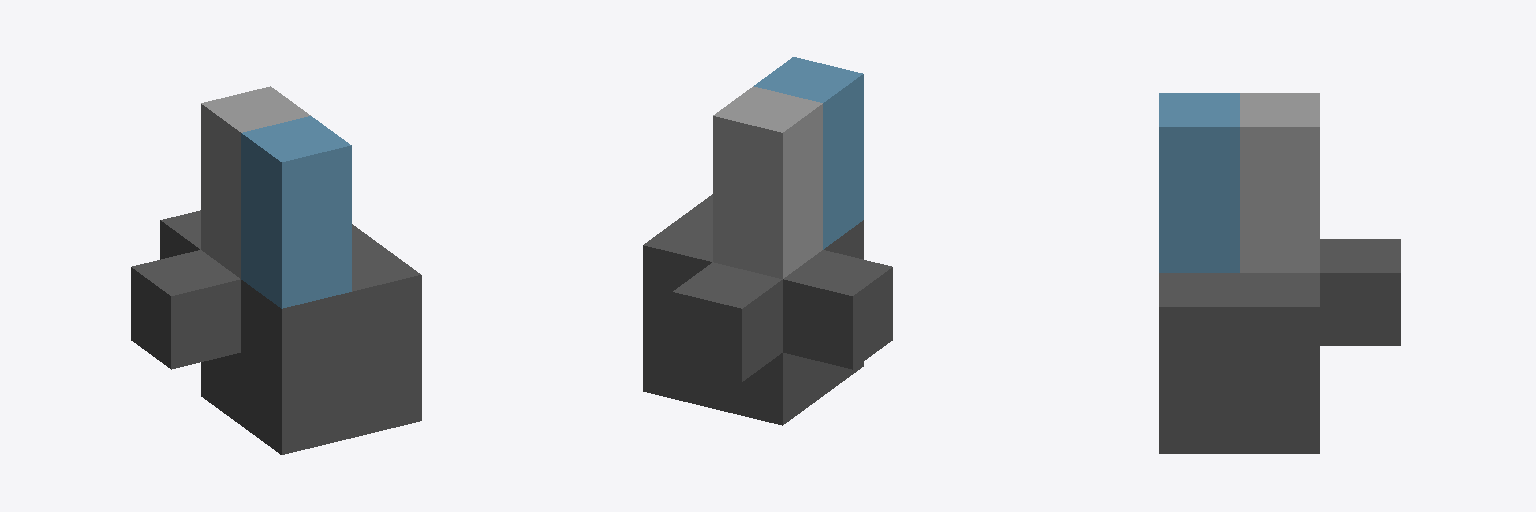
The picture shows the model from 3 angles: view 1: azimuth 30°, elevation 25°; view 2: azimuth 150°, elevation 25°; view 3: azimuth 270°, elevation 25°; orthographic projection.
Parts seen in each view (by area): view 1: object 1; view 2: object 1; view 3: object 1.
Boxes of the visible parts, <box> form: object 1: <box>131,86,421,454</box>; object 1: <box>643,57,892,425</box>; object 1: <box>1159,93,1400,453</box>.
Size of the model in its own units: 0.3 by 0.4 by 0.3.
Materials: 1 (1 with a texture image).